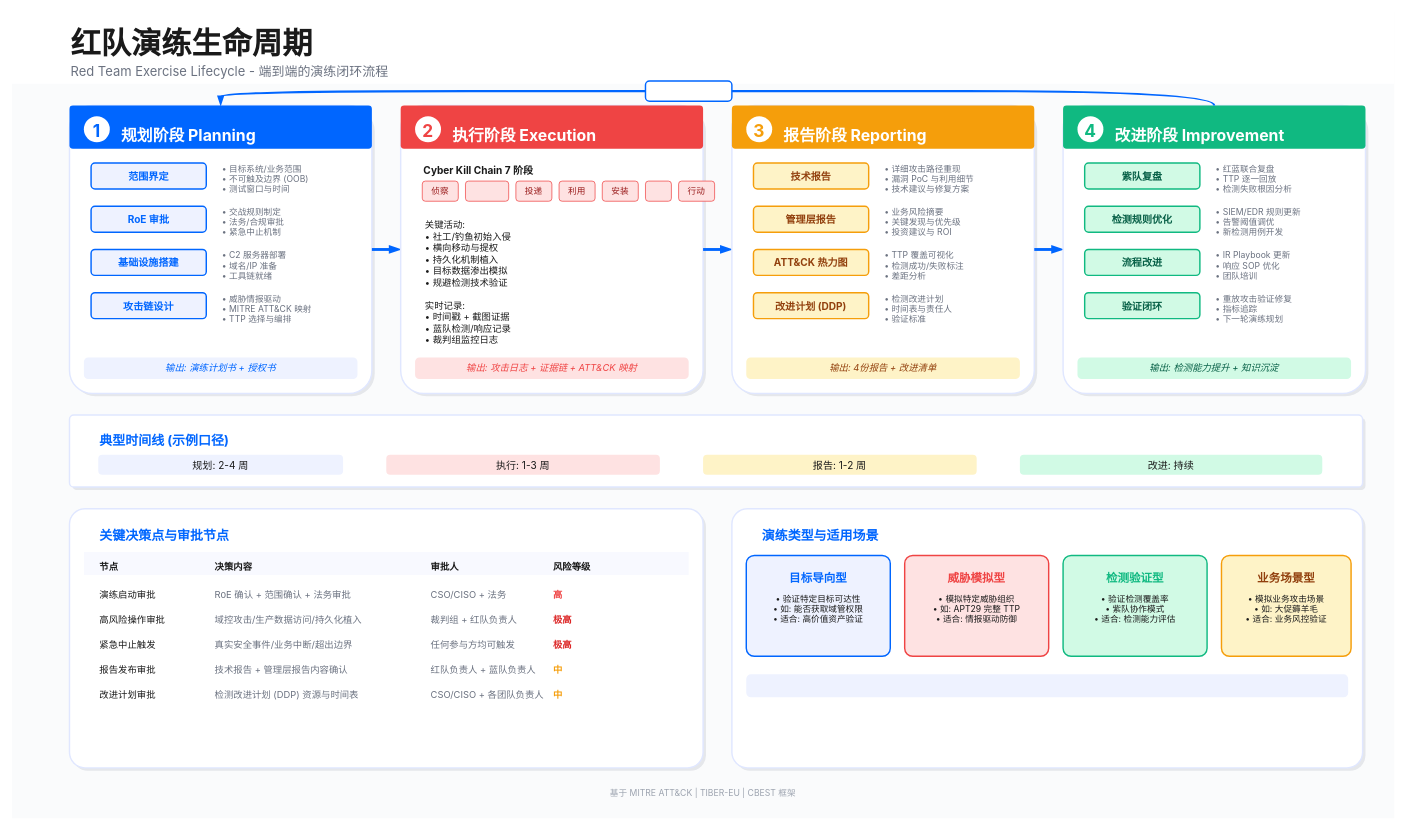
Image size: 1406x830. Some labels were removed from this diagram. The shapes that lost their labels are listed below. From the top down, each one's centre as x and y in pixels, then its label:
the point at 688,91: 持续改进循环
the point at 487,190: 武器化
the point at 658,190: C2
the point at 1047,685: 建议: 成熟期企业组合使用多种演练类型，根据业务周期和威胁情报动态调整重点
